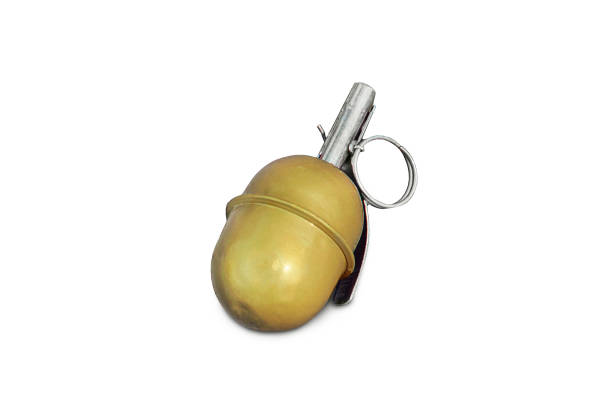e1: (214, 83, 415, 330)
